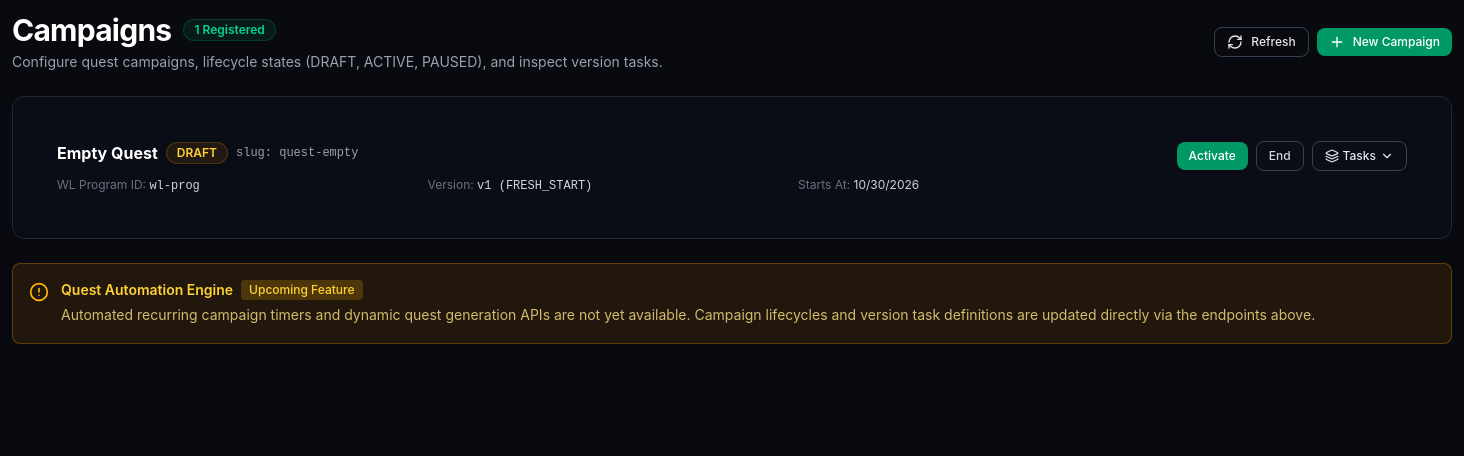
Scenario: Local Testing - Admin Dashboard Campaigns Menu › 4. Daftar tasks › menampilkan pesan 'No tasks configured in this version.' jika belum ada task
Click the button "Tasks" at (1359, 156), box [1312, 141, 1407, 171]
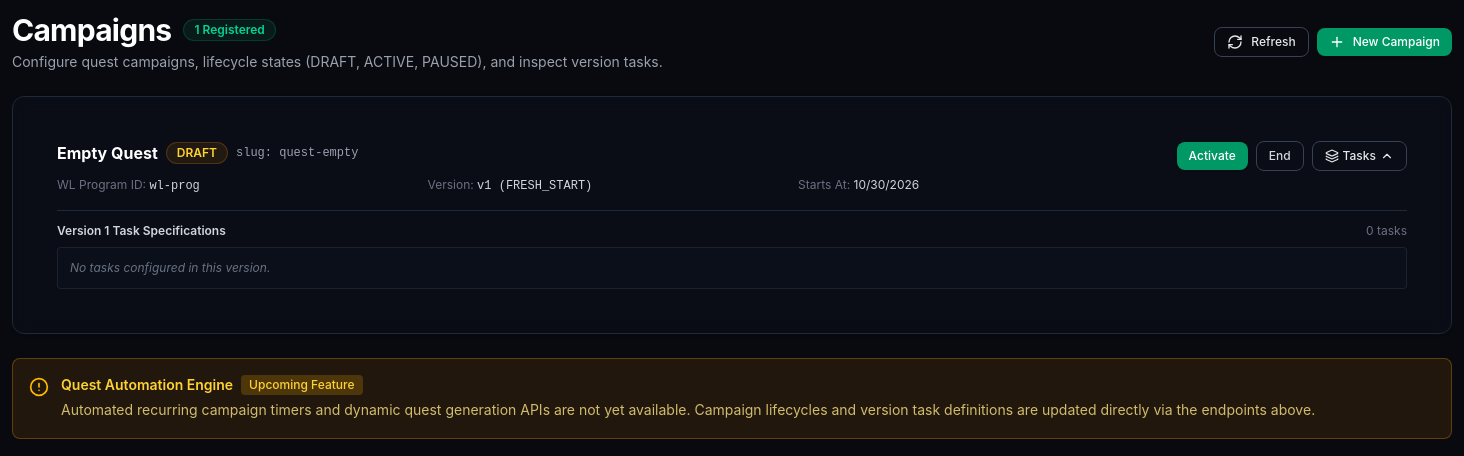
Check: the text "No tasks configured in this version." is shown, box [57, 247, 1407, 289]
Check: the text "0 tasks" is shown, box [1366, 223, 1407, 239]
